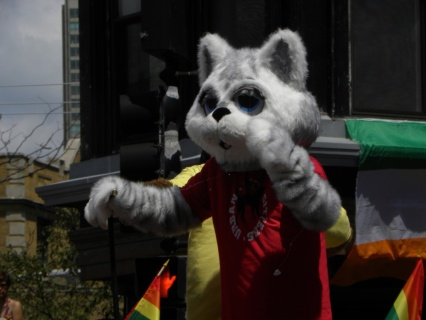Cat: (80, 30, 354, 319)
